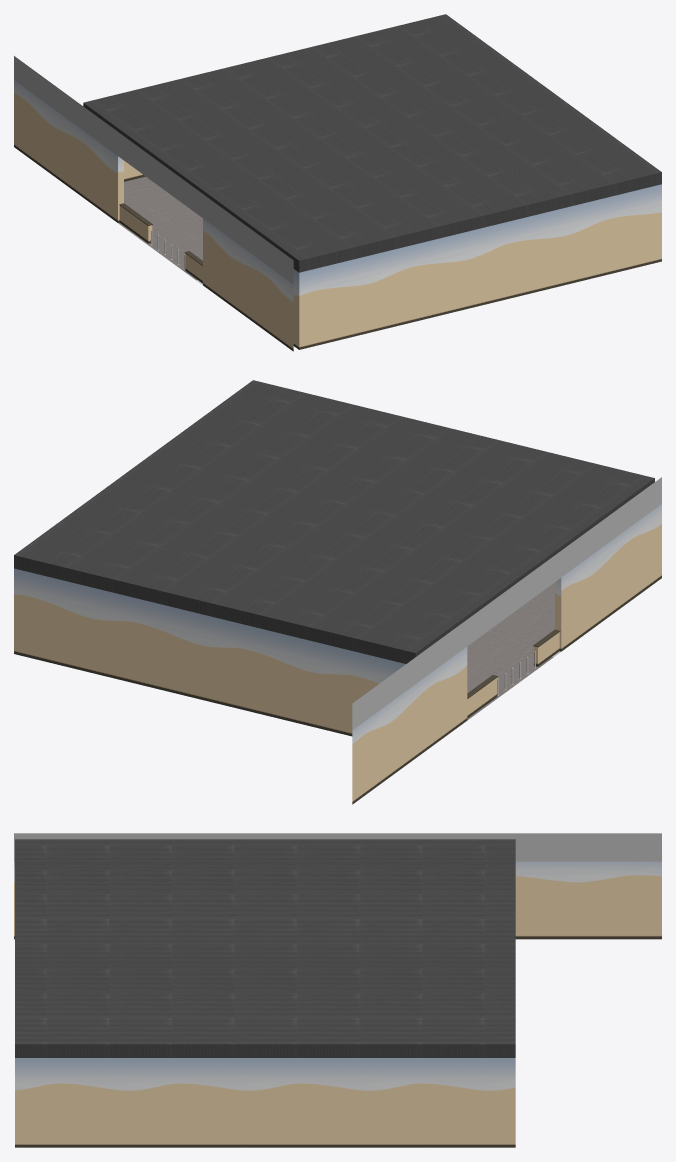
The model's file is SM_Floor_01.FBX.
3 views of the same model, one above another, from view 1: azimuth 30°, elevation 25°; view 2: azimuth 150°, elevation 25°; view 3: azimuth 270°, elevation 25° (orthographic). The views are drawn at different scales.
Parts seen in each view (by area): view 1: SM_Floor_01; view 2: SM_Floor_01; view 3: SM_Floor_01.
Part boxes in pixels (box(x1,y1,x2,y2)): SM_Floor_01: box(14, 14, 661, 351); SM_Floor_01: box(14, 380, 661, 804); SM_Floor_01: box(14, 833, 661, 1147).
Bounding box in the file's own units: 2162 × 512 × 2841.
